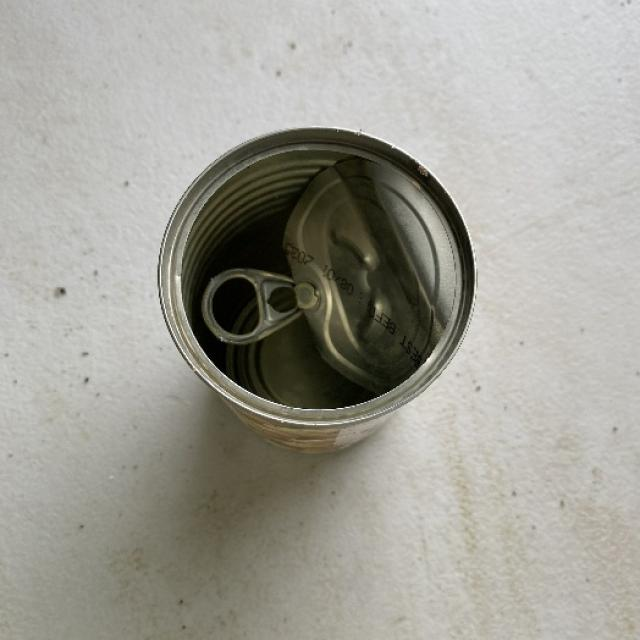metal: (156, 124, 476, 454)
